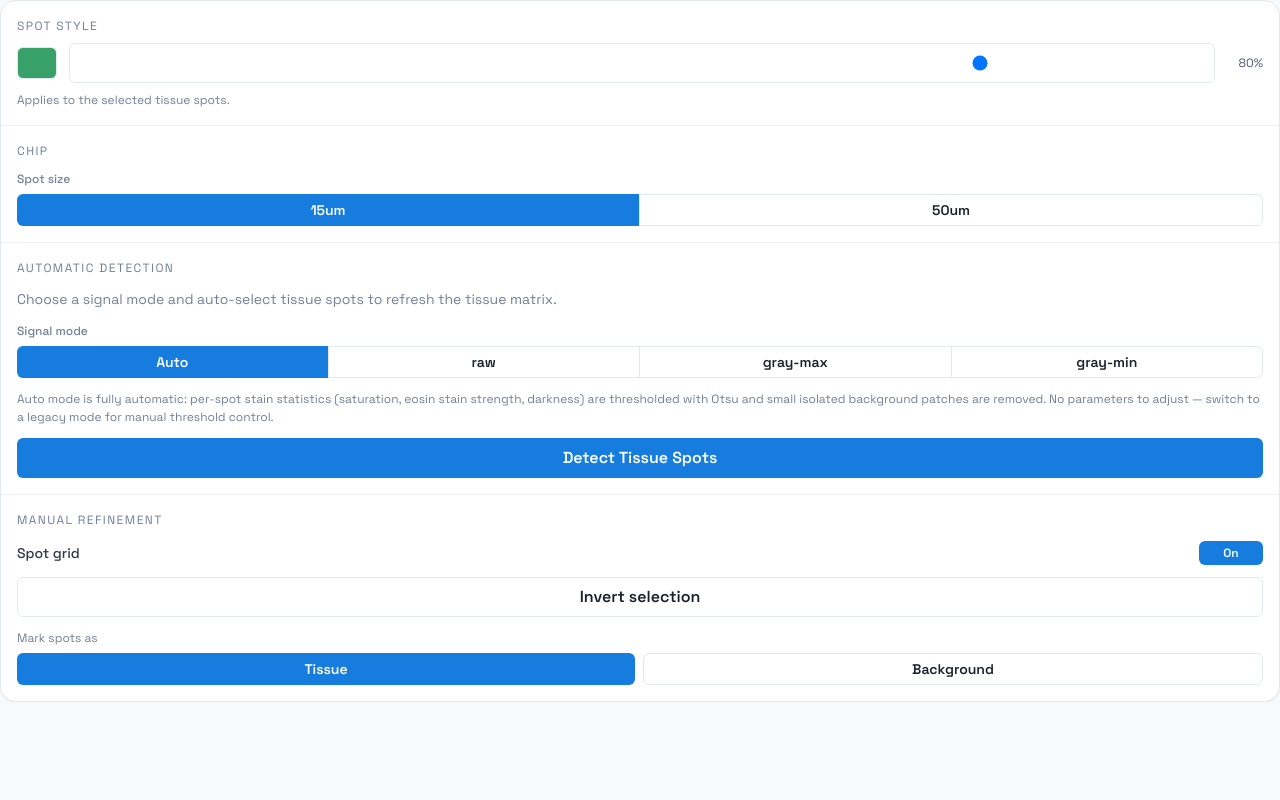
TissueControlPanel › auto mode is parameter-free and hides both threshold inputs until a legacy mode is chosen
The width and height of the screenshot is (1280, 800).
Expected: the text with test id "tissue-auto-mode-hint" is shown, [17,390,1263,426]
Click the button with test id "tissue-threshold-mode-option-raw": (484,362) [328,346,640,378]
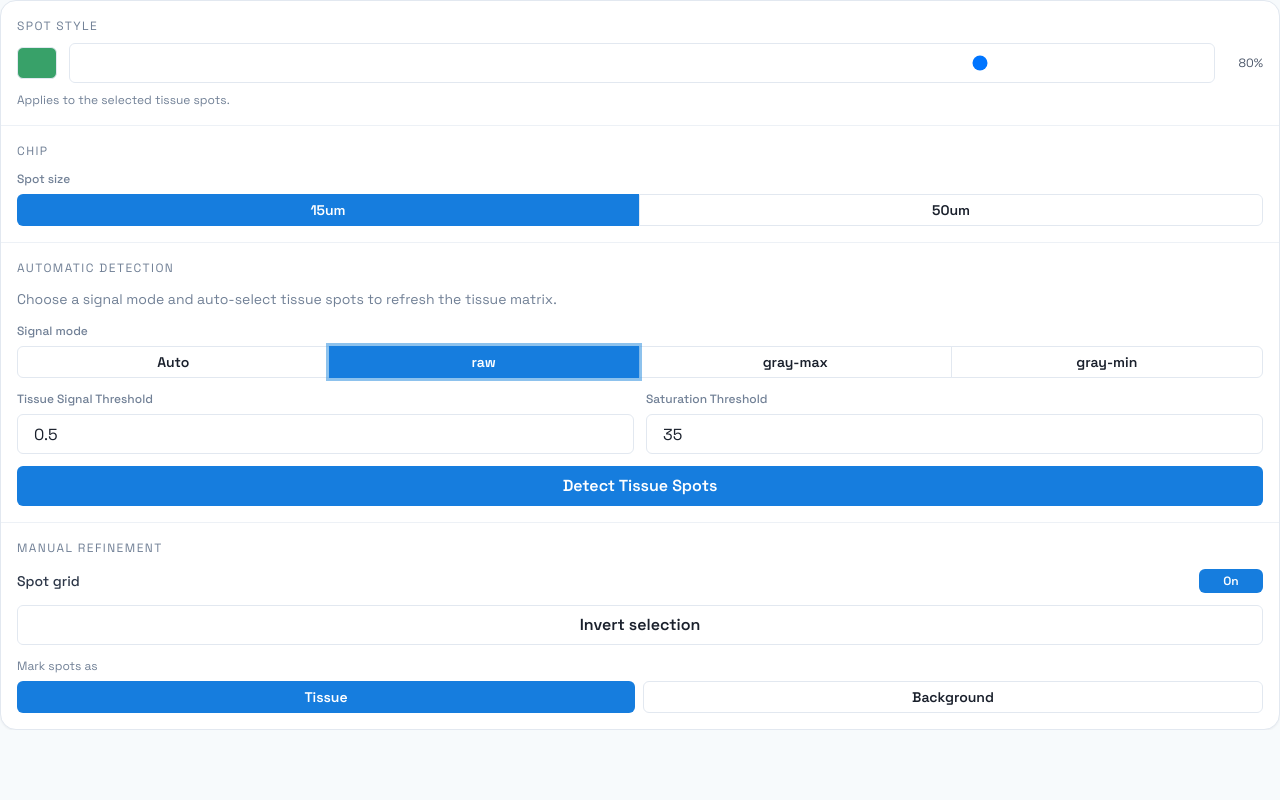
Expected: the number field with test id "tissue-block-threshold-input" is shown, [646,414,1263,454]
Expected: the number field with test id "tissue-activation-threshold-input" is shown, [17,414,634,454]
